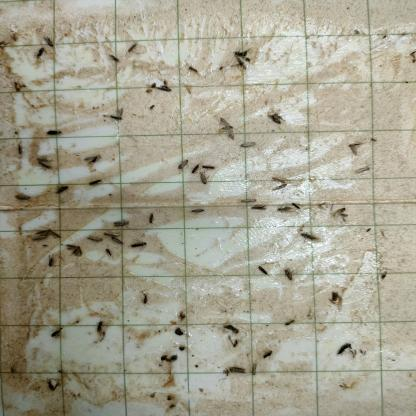prays_oleae: (34, 220, 59, 250), (233, 42, 254, 77), (101, 103, 129, 128), (196, 159, 220, 187), (148, 77, 175, 100), (216, 113, 237, 142), (334, 340, 364, 360), (64, 240, 85, 264), (274, 199, 294, 224), (266, 110, 288, 131), (84, 224, 104, 247), (187, 203, 204, 230), (42, 121, 68, 138), (37, 149, 55, 173), (271, 170, 289, 194), (80, 152, 104, 169), (15, 186, 30, 212), (243, 138, 262, 158), (229, 361, 247, 382), (281, 262, 295, 288), (128, 235, 148, 253), (346, 134, 361, 155), (52, 184, 70, 200), (262, 340, 273, 366), (107, 48, 121, 68), (332, 202, 345, 223), (248, 200, 270, 212), (283, 312, 297, 330), (115, 214, 130, 230), (238, 192, 258, 204), (176, 158, 192, 172), (257, 259, 267, 281), (248, 359, 258, 381), (127, 38, 138, 56), (190, 58, 200, 75)
